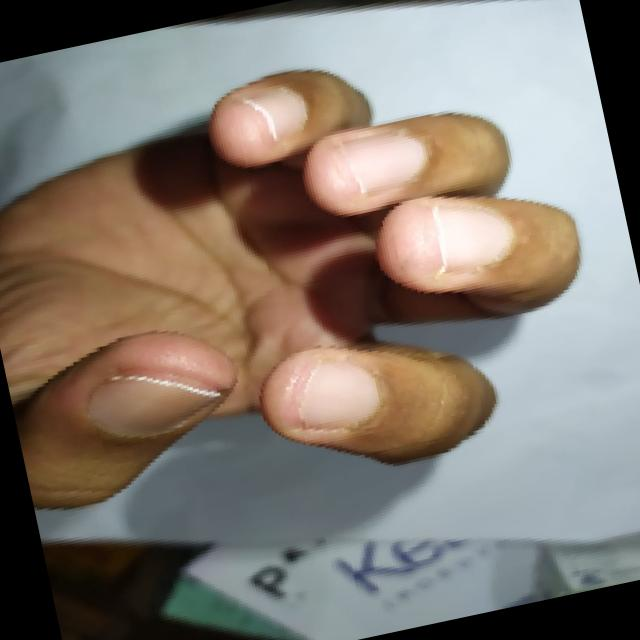Nail: (87, 374, 220, 436), (431, 201, 513, 272), (297, 361, 379, 427), (344, 131, 425, 191), (240, 85, 306, 141)
